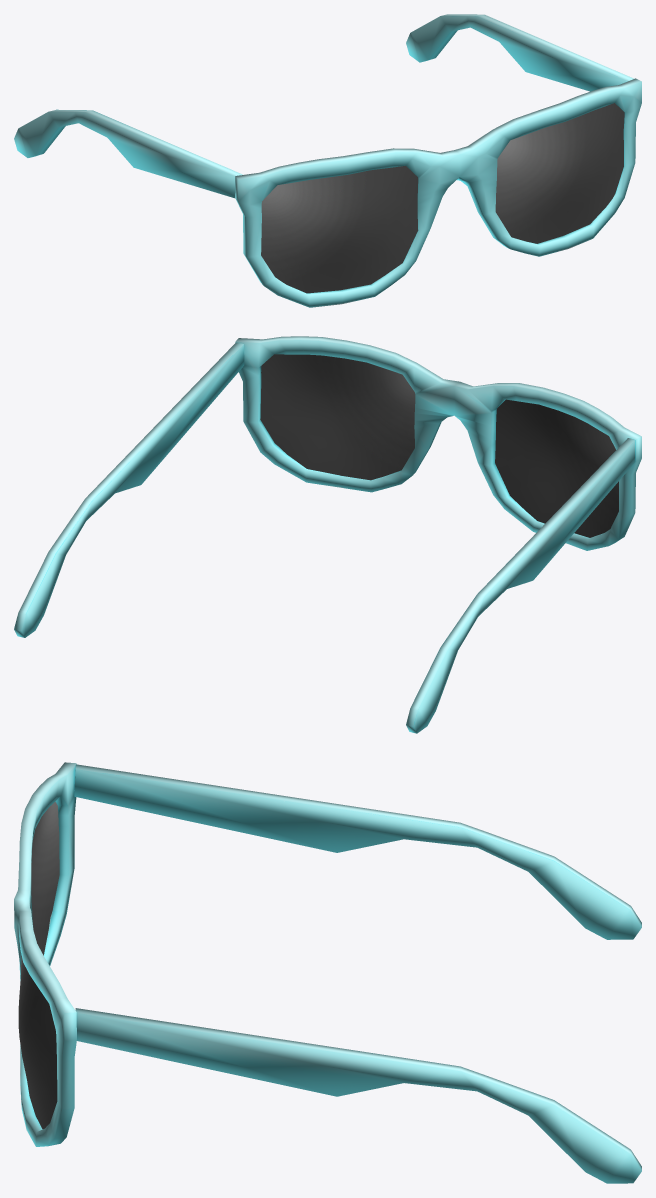
File: Diamond-Encrusted-Sunglasses.obj
3 views of the same model, one above another, from view 1: azimuth 30°, elevation 25°; view 2: azimuth 150°, elevation 25°; view 3: azimuth 270°, elevation 25° (orthographic). The views are drawn at different scales.
Parts seen in each view (by area): view 1: Circle.001_Circle.002; view 2: Circle.001_Circle.002; view 3: Circle.001_Circle.002.
Part boxes in pixels (x1,y1,x2,y2): Circle.001_Circle.002: [14, 14, 641, 307]; Circle.001_Circle.002: [14, 336, 641, 733]; Circle.001_Circle.002: [14, 762, 641, 1183].
Bounding box in the file's own units: 1.2 × 0.4085 × 1.27.
